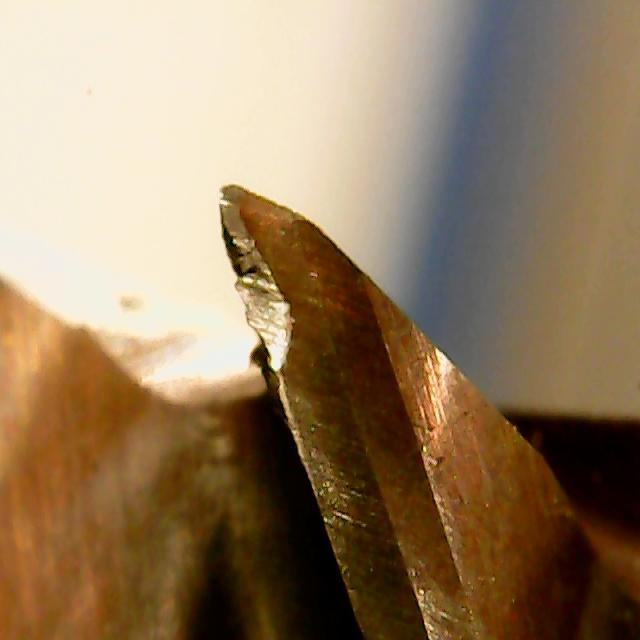Tool-wear-class-3: (184, 167, 400, 502)
